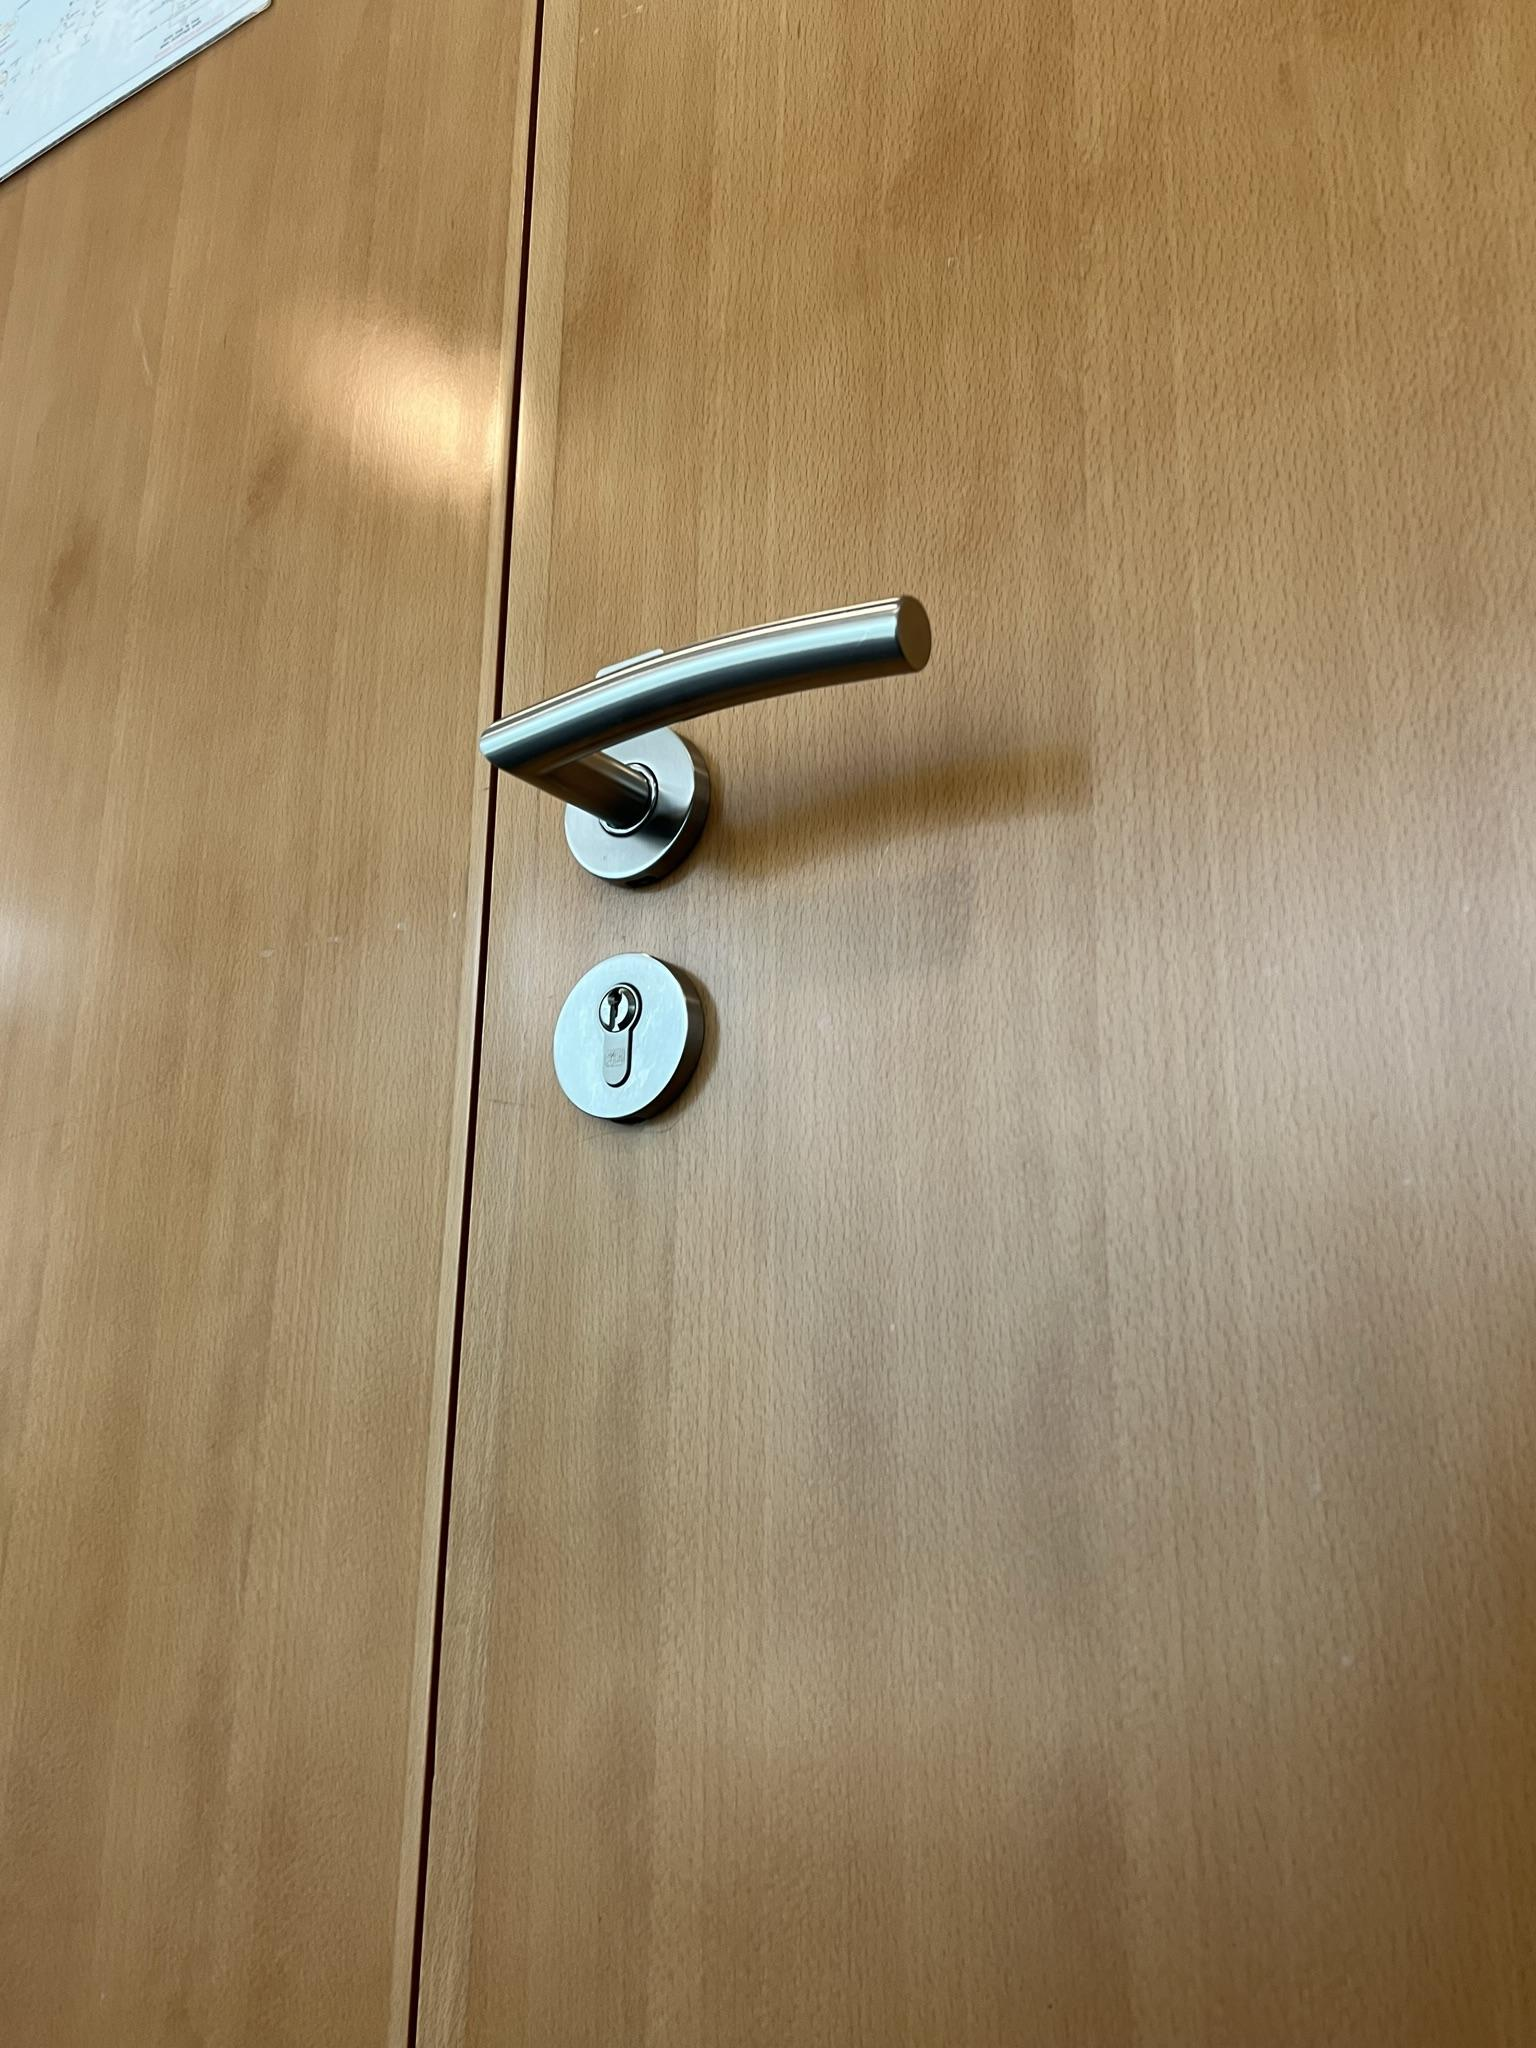door: (411, 2, 1534, 2048)
handle: (463, 552, 949, 910)
